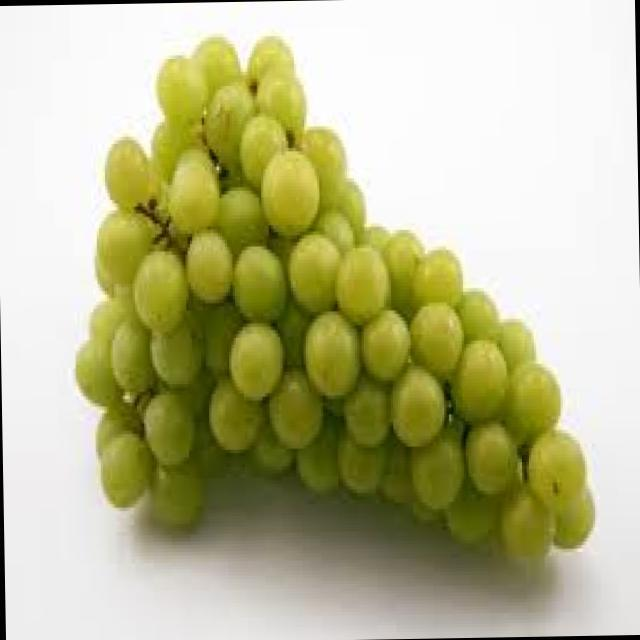Grapes: (48, 13, 608, 620)
